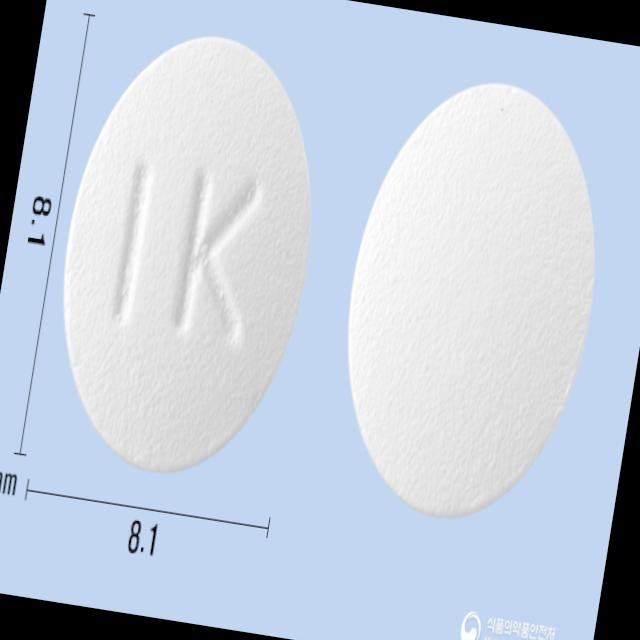Lesacra: (32, 13, 342, 492)
